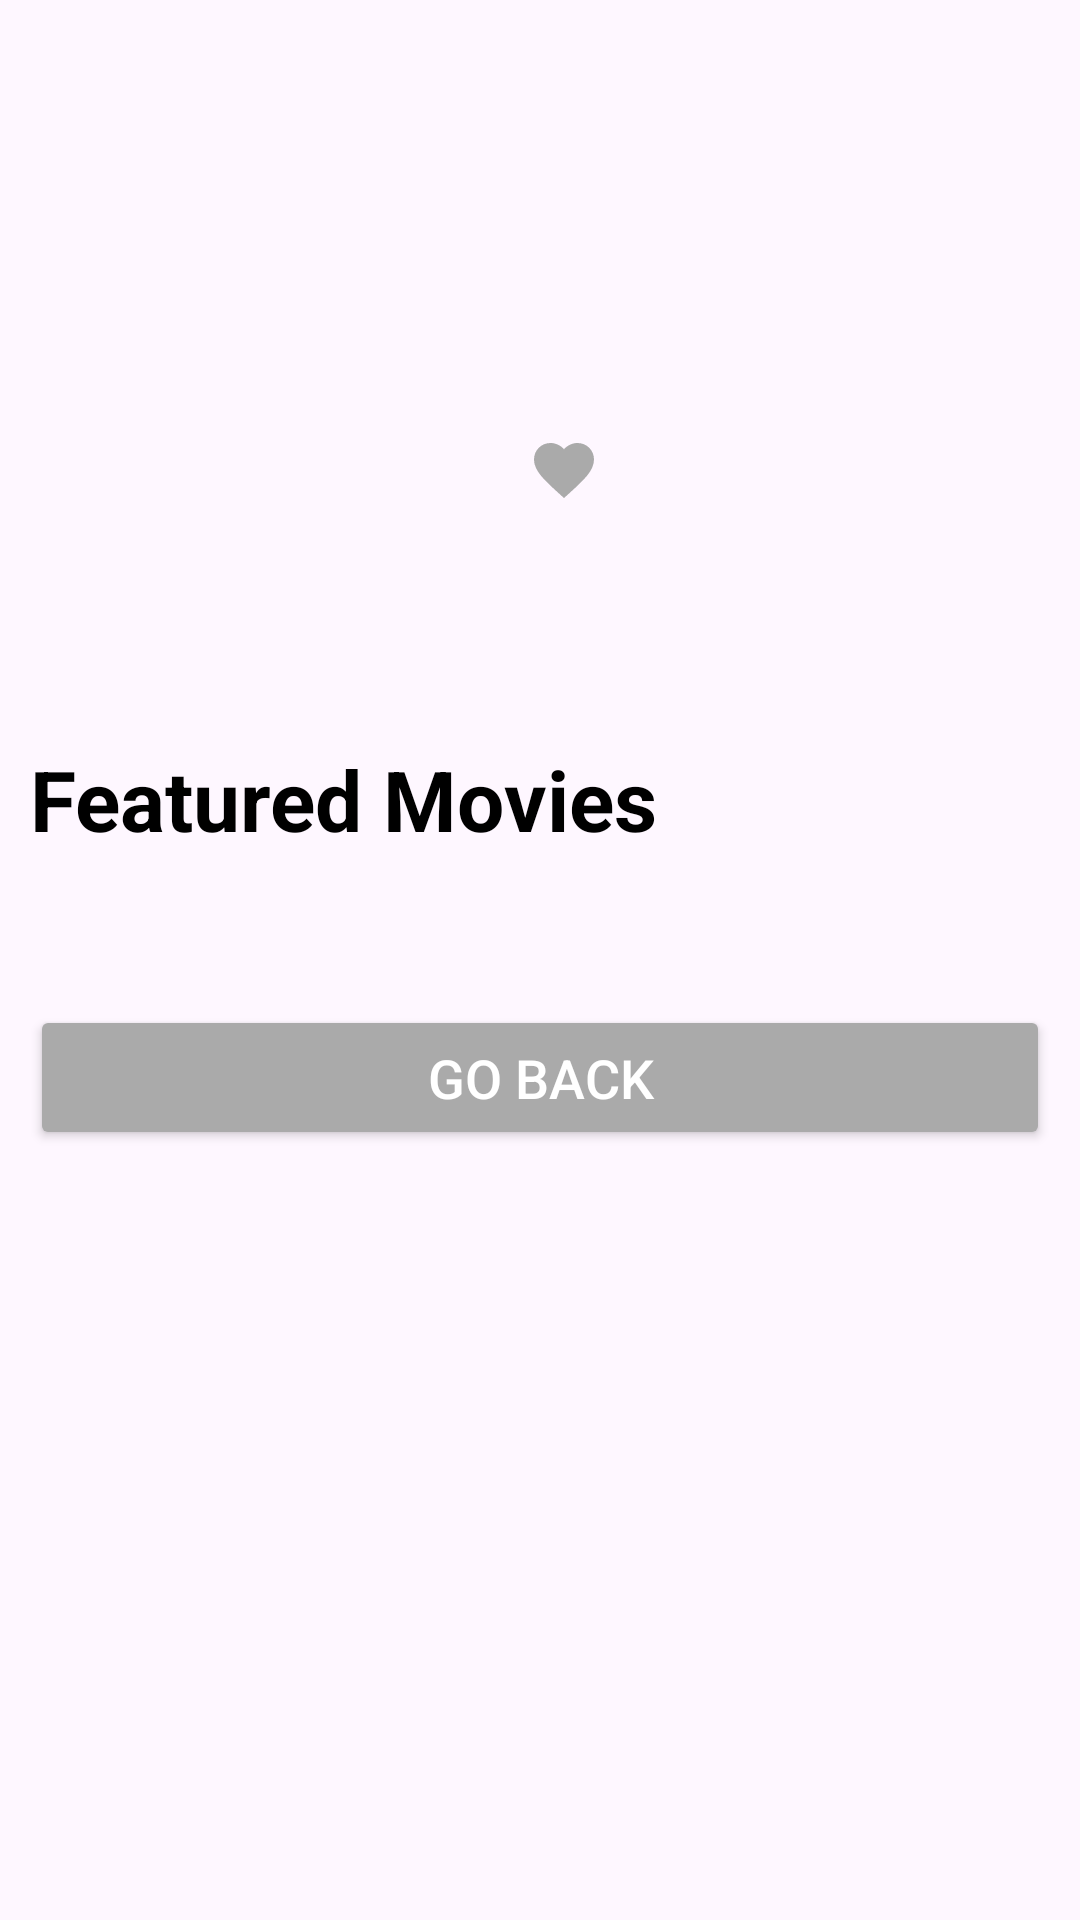

Screen size 1080 × 1920. Icon name, then its center in pixels as [x,y]:
Favorite Button: [564,470]
